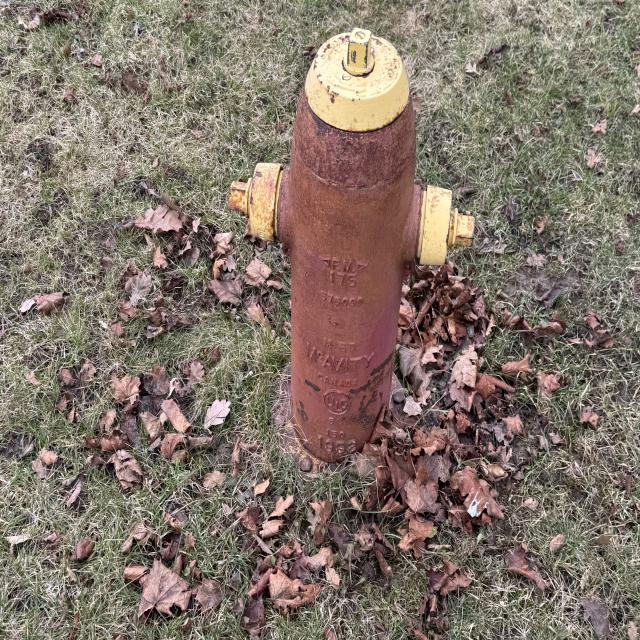Fire hydrant: (227, 27, 477, 486)
